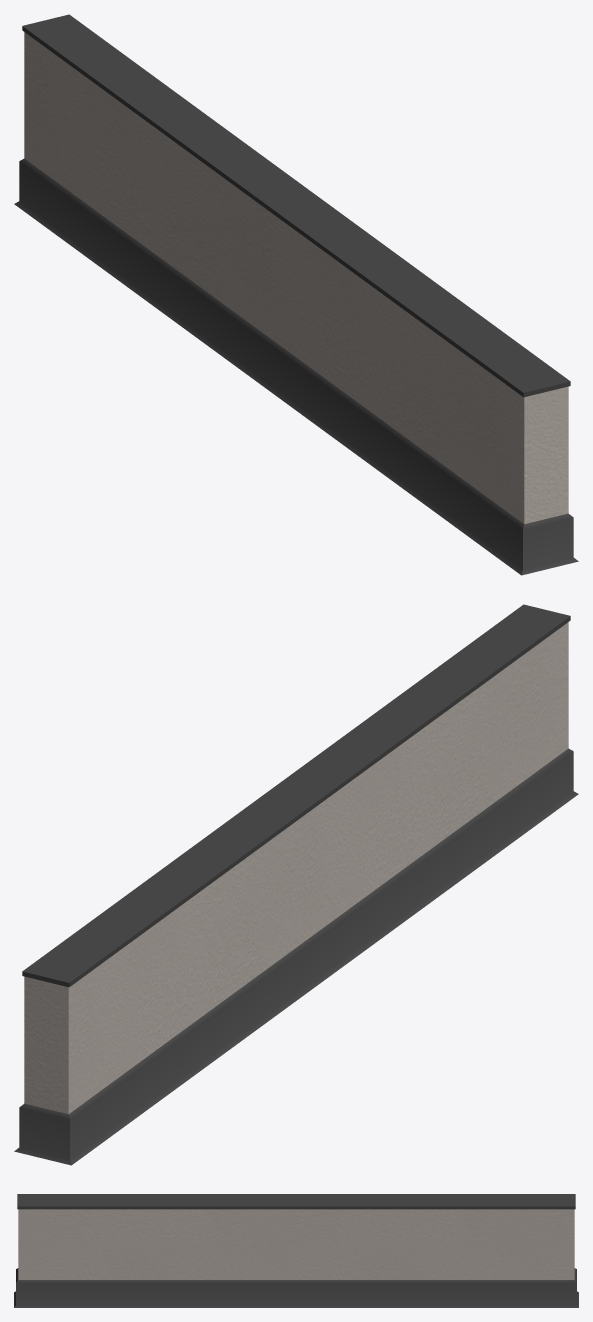
The model's file is Fence.glb.
The picture shows the model from 3 angles, top to bottom: view 1: azimuth 30°, elevation 25°; view 2: azimuth 150°, elevation 25°; view 3: azimuth 270°, elevation 25°; orthographic projection. The views are drawn at different scales.
Parts seen in each view (by area): view 1: Fence; view 2: Fence; view 3: Fence.
Part boxes in pixels (x1,y1,x2,y2): Fence: (14,14,578,575); Fence: (14,604,578,1165); Fence: (14,1194,578,1307).
Size of what is drawn, in the model's own units: 0.2689 by 0.8 by 4.11.
2 materials, 1 textured.
